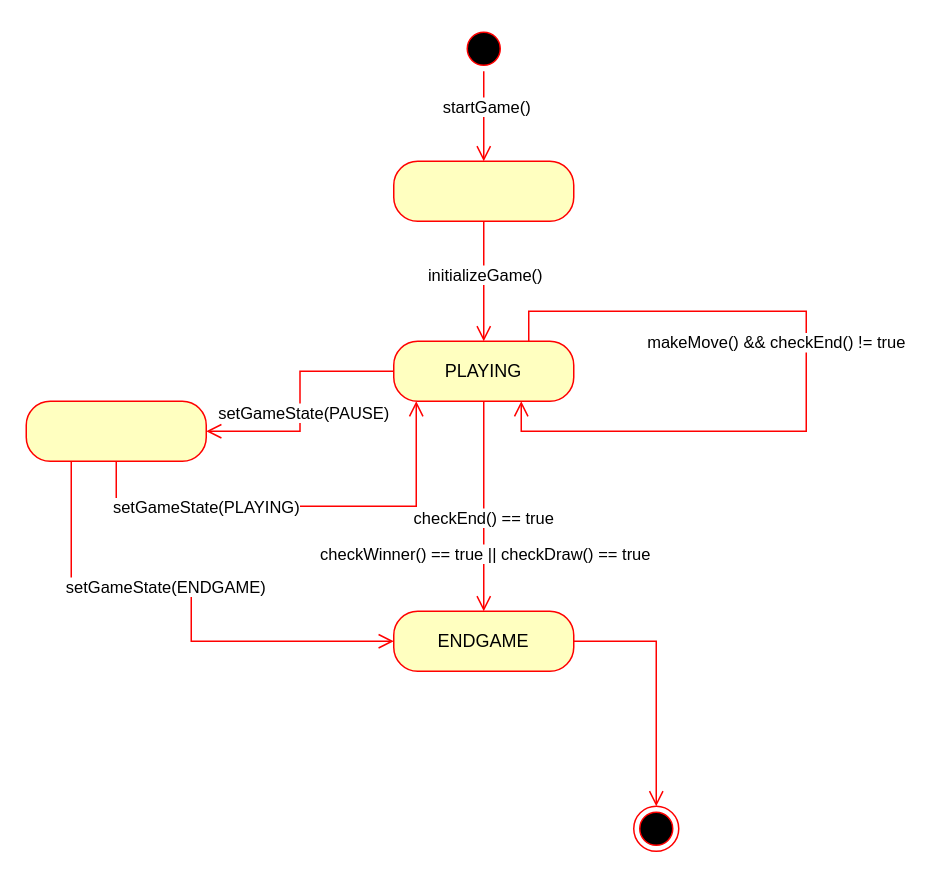
Image size: 930x878. Some labels were removed from this diagram. Here are the shapes that lost their labels. From the top down, the centre of each, then its label:
At (x=483, y=190): "START".
At (x=115, y=430): "PAUSE".
